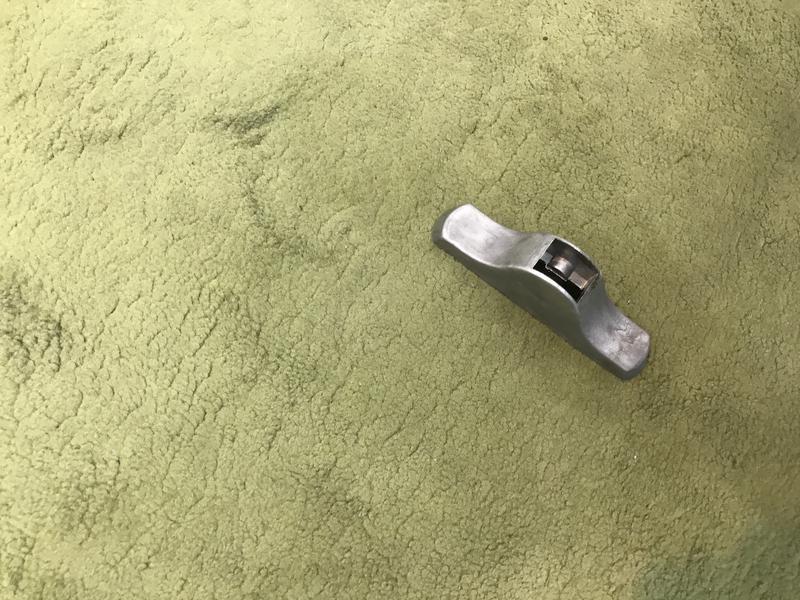zapchast: (414, 191, 663, 395)
